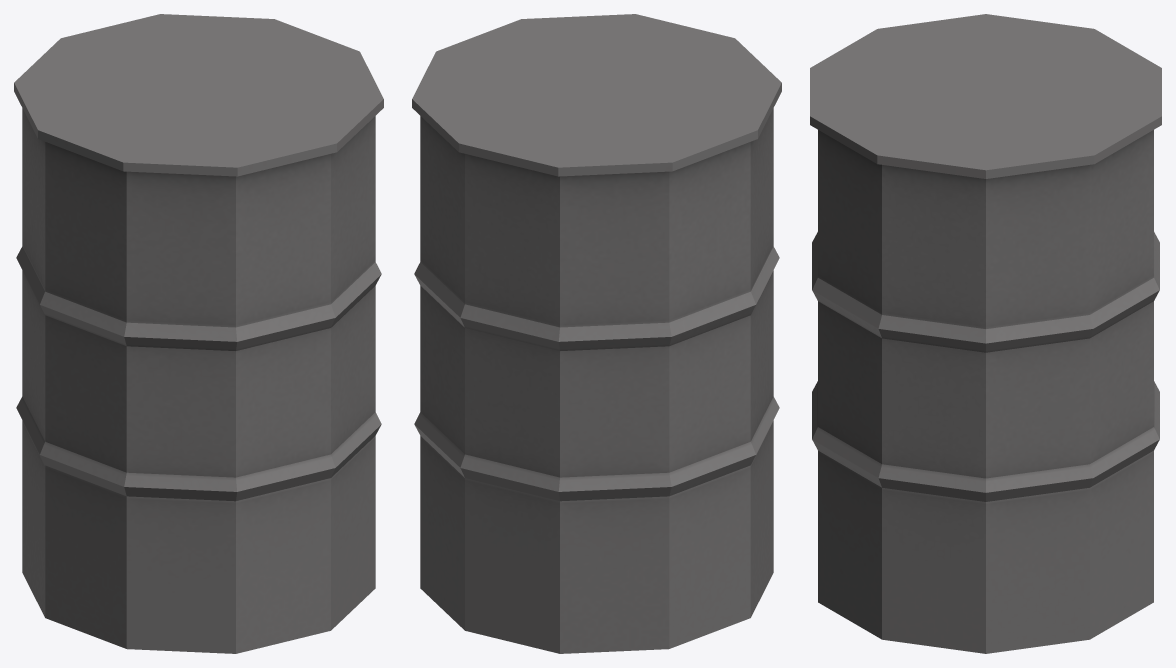
The model's file is Barrel_Grey.fbx.
3 views of the same model, side by side, from view 1: azimuth 30°, elevation 25°; view 2: azimuth 150°, elevation 25°; view 3: azimuth 270°, elevation 25° (orthographic).
Parts seen in each view (by area): view 1: Barrel_Grey; view 2: Barrel_Grey; view 3: Barrel_Grey.
Part boxes in pixels (bbox=[...]): Barrel_Grey: bbox=[14, 14, 383, 653]; Barrel_Grey: bbox=[412, 14, 781, 653]; Barrel_Grey: bbox=[810, 14, 1161, 653].
Size of the model in its own units: 15.08 by 21.92 by 14.34.
